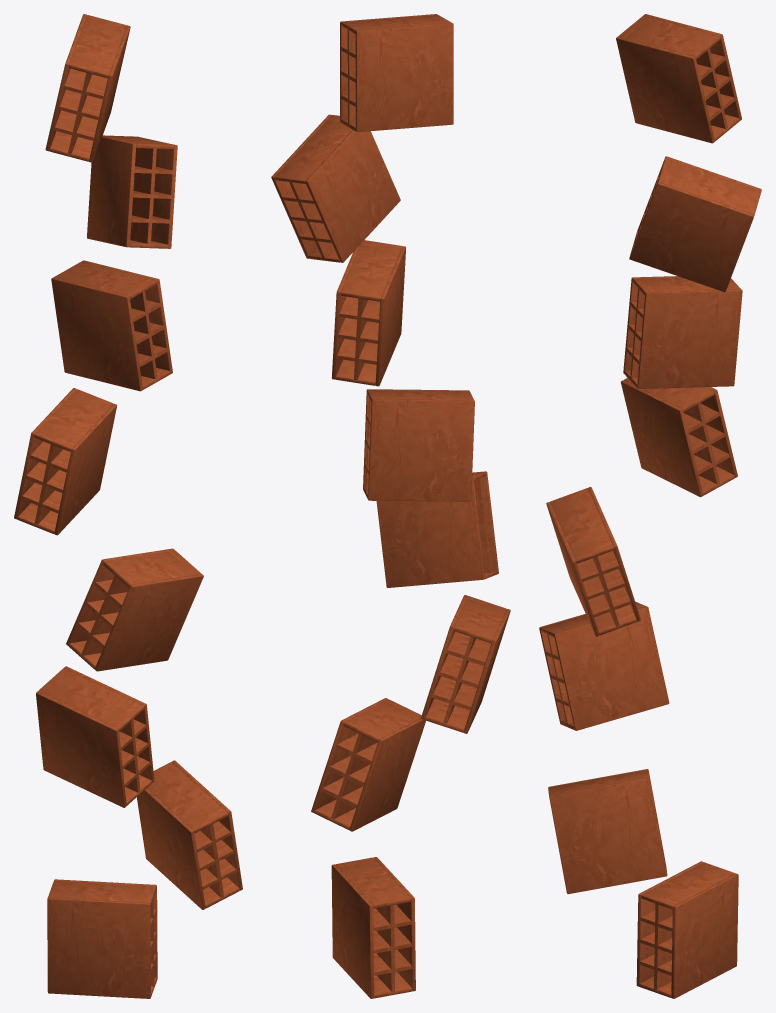
File: ALV-BLC-002_anim.glb
The picture shows the model from 3 angles, left to right: view 1: azimuth 30°, elevation 25°; view 2: azimuth 150°, elevation 25°; view 3: azimuth 270°, elevation 25°; orthographic projection.
Visible parts, largest first — view 1: ALV-BLC-002_anim0, ALV-BLC-002_anim5, ALV-BLC-002_anim2, ALV-BLC-002_anim3, ALV-BLC-002_anim1, ALV-BLC-002_anim4, ALV-BLC-002_anim6, ALV-BLC-002_anim7; view 2: ALV-BLC-002_anim7, ALV-BLC-002_anim4, ALV-BLC-002_anim6, ALV-BLC-002_anim0, ALV-BLC-002_anim3, ALV-BLC-002_anim1, ALV-BLC-002_anim5, ALV-BLC-002_anim2; view 3: ALV-BLC-002_anim5, ALV-BLC-002_anim7, ALV-BLC-002_anim6, ALV-BLC-002_anim0, ALV-BLC-002_anim1, ALV-BLC-002_anim2, ALV-BLC-002_anim4, ALV-BLC-002_anim3.
Boxes of the visible parts, x1,y1,x2,y2 form: ALV-BLC-002_anim0: (47, 879, 157, 998); ALV-BLC-002_anim5: (51, 260, 172, 391); ALV-BLC-002_anim2: (36, 666, 154, 807); ALV-BLC-002_anim3: (66, 548, 203, 671); ALV-BLC-002_anim1: (136, 760, 242, 909); ALV-BLC-002_anim4: (14, 388, 116, 535); ALV-BLC-002_anim6: (87, 135, 177, 248); ALV-BLC-002_anim7: (45, 14, 130, 162); ALV-BLC-002_anim7: (340, 14, 453, 132); ALV-BLC-002_anim4: (363, 389, 474, 501); ALV-BLC-002_anim6: (271, 114, 400, 262); ALV-BLC-002_anim0: (331, 857, 415, 998); ALV-BLC-002_anim3: (376, 471, 498, 587); ALV-BLC-002_anim1: (311, 698, 425, 831); ALV-BLC-002_anim5: (331, 240, 405, 386); ALV-BLC-002_anim2: (421, 595, 510, 733); ALV-BLC-002_anim5: (623, 276, 742, 388); ALV-BLC-002_anim7: (616, 14, 741, 143); ALV-BLC-002_anim6: (629, 156, 761, 292); ALV-BLC-002_anim0: (636, 861, 738, 998); ALV-BLC-002_anim1: (548, 769, 667, 894); ALV-BLC-002_anim2: (539, 601, 669, 730); ALV-BLC-002_anim4: (620, 378, 737, 497); ALV-BLC-002_anim3: (546, 486, 640, 636).
Bounding box in the file's own units: 0.3667 × 1.93 × 0.4142.
Materials: 1 (1 with a texture image).
